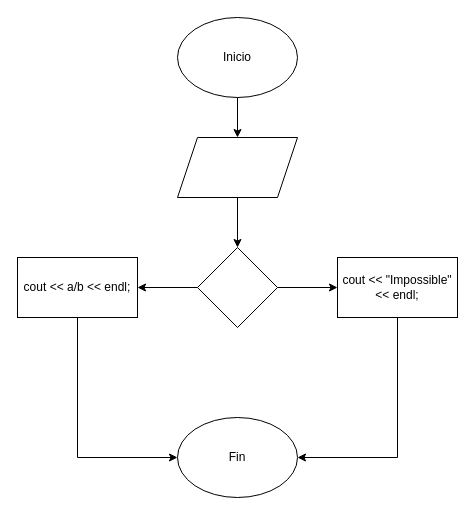
The diagram is 475 pixels wide and 515 high, and some of its shapes have lost their labels. Here are the shapes that lost their labels. From the top down, the centre of each, then its label:
At point (237, 167): "iint a , b".
At point (237, 287): "if b == 0".
